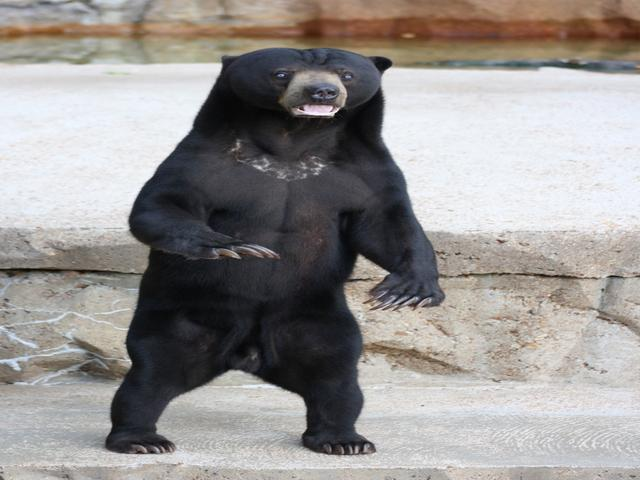Bear: (85, 45, 468, 448)
